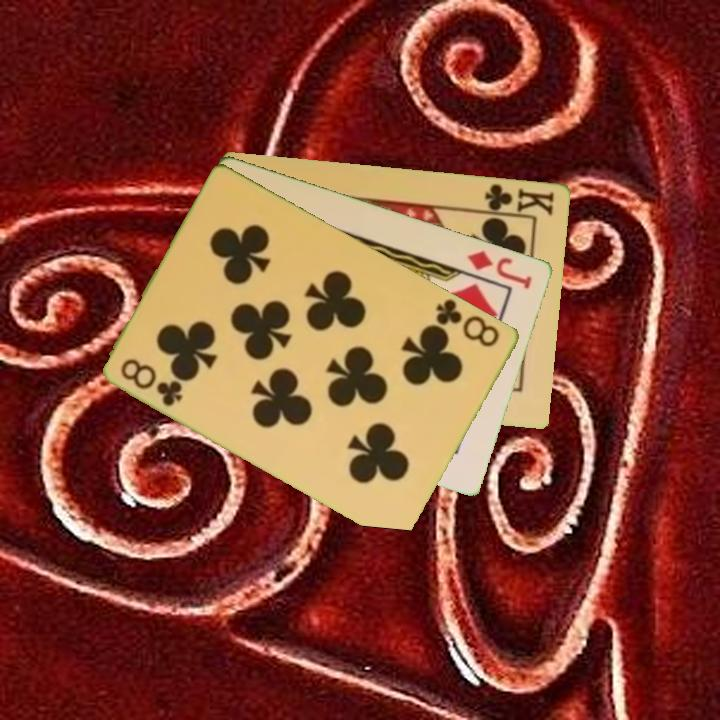8c: (431, 295, 503, 350), (117, 354, 186, 409)
Jd: (464, 246, 535, 292)
Kc: (476, 179, 558, 219)
